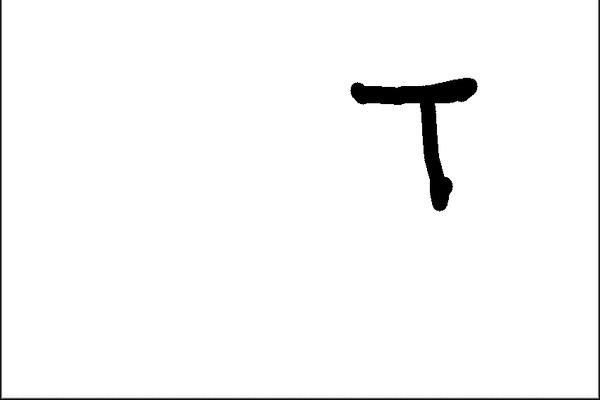T: (344, 66, 487, 217)
